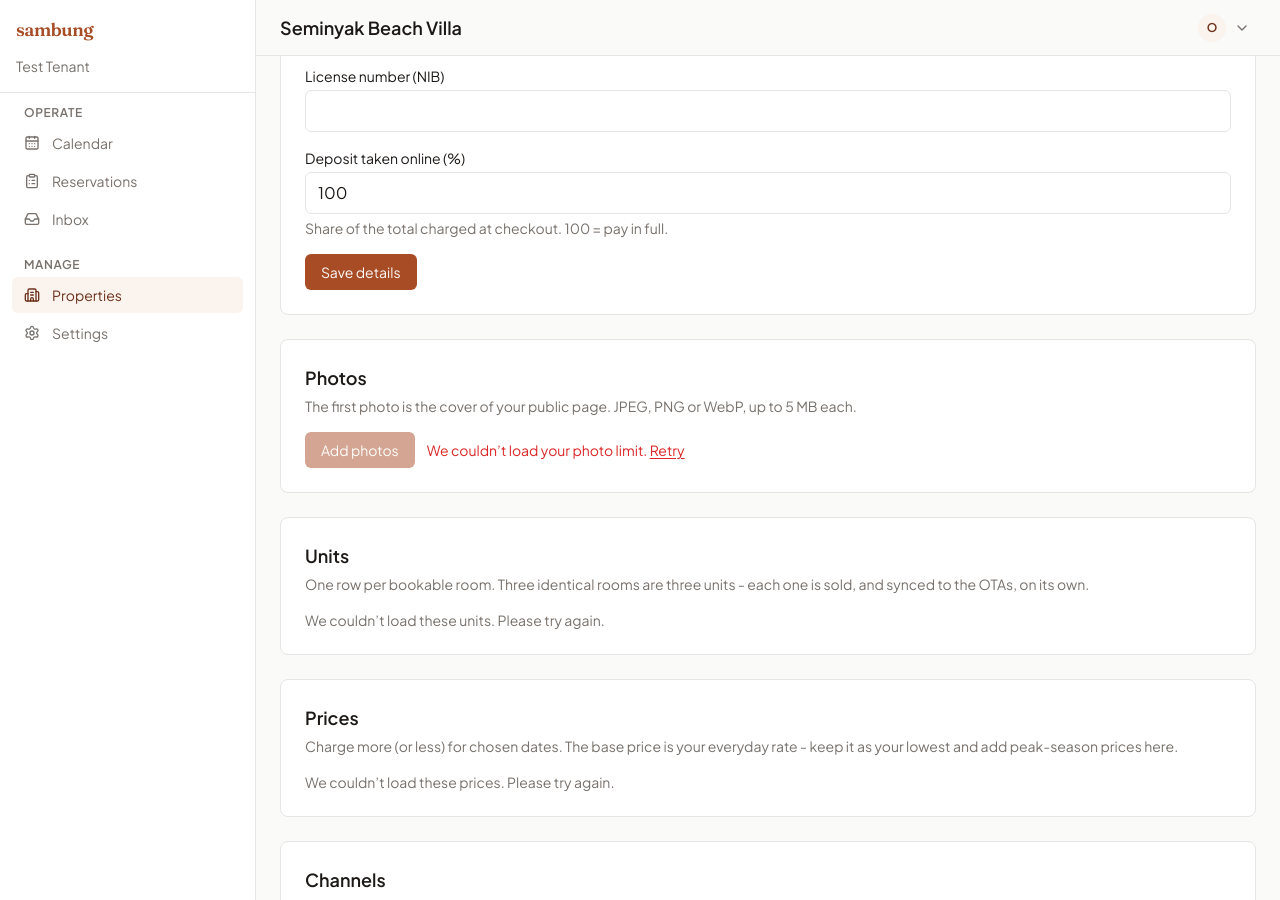
Test: photos section (§4.5, #39) › the tenant's gallery cap › surfaces a failed cap fetch with a retry, instead of a dead button
(page scrolled)
expect the text "We couldn’t load your photo limit. Retry" is shown: met, box x1=427 y1=440 x2=685 y2=460
expect the button "Add photos" is disabled: met, box x1=305 y1=432 x2=415 y2=468
Click the button "Retry".
click(667, 450)  # box x1=650 y1=440 x2=684 y2=460
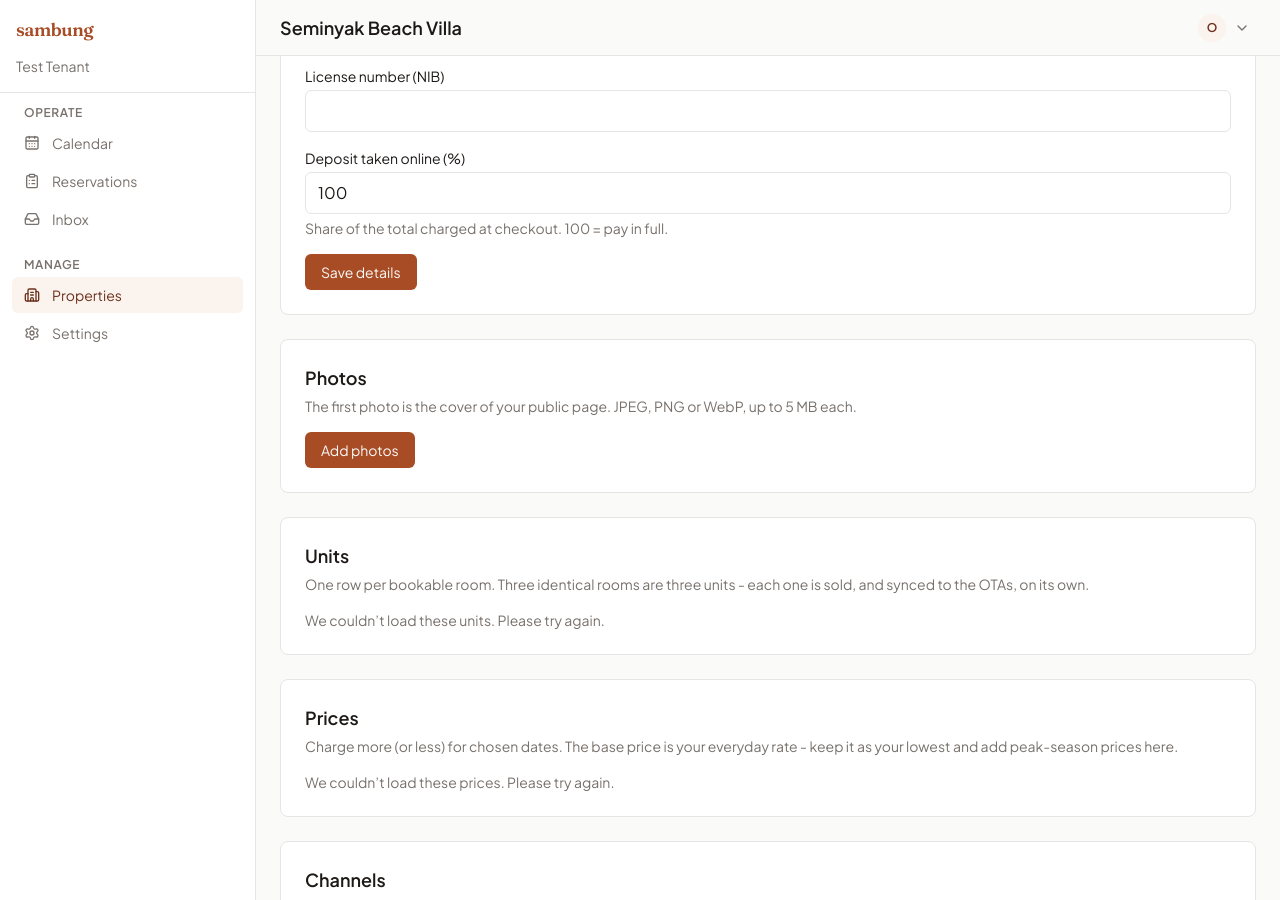
expect the button "Add photos" is enabled: met, box x1=305 y1=432 x2=415 y2=468
expect the text "couldn’t load your photo limit" is gone: met
